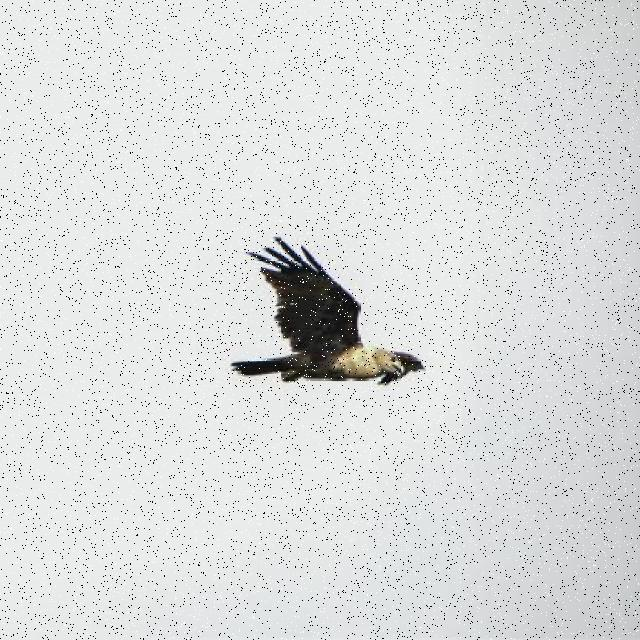bird: (231, 234, 427, 386)
